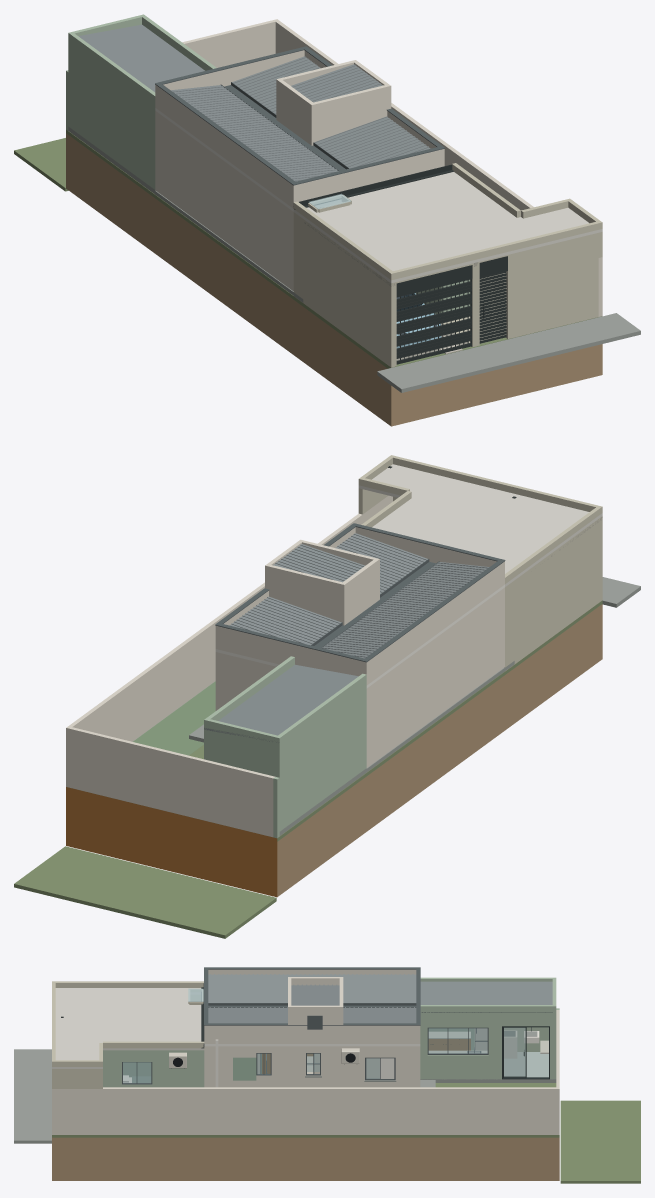
Rendered from casa-bp-porta-lavanderia-g08.glb.
3 views of the same model, one above another, from view 1: azimuth 30°, elevation 25°; view 2: azimuth 150°, elevation 25°; view 3: azimuth 270°, elevation 25° (orthographic). The views are drawn at different scales.
Visible parts, largest first — view 1: Solo em corte esquemático — perfil lateral não levantado, G03 — laje contínua até a entrada existente (×3), Parede cega / divisa do desenho, G03 — fechamento frontal após porta social, Garagem — fechamento lateral proposto; apoios independentes , Fundos — fechamento esquerdo proposto, Passeio público — contexto ilustrativo, Volume elevado caixa d’água (×2), Platibanda frente / fundo (×2), Pano 1 — social, Fundos — cobertura independente ilustrativa, G03 — platibanda do conjunto frontal (×3) (+18 smaller); view 2: Solo em corte esquemático — perfil lateral não levantado, Face indicativa de contenção — 2 m estimados; seção e fundaç, Muro fundos — 2,00 m sobre terreno, G03 — laje contínua até a entrada existente (×3), Referência do nível do vizinho — extensão apenas ilustrativa, Parede cega / divisa do desenho, Muro lateral direito do desenho — 2,00 m, Garagem — fechamento lateral proposto; apoios independentes , Fundos — fechamento esquerdo proposto, Fundos — cobertura independente ilustrativa, Platibanda frente / fundo (×2), Volume elevado caixa d’água (×2) (+18 smaller); view 3: Muro lateral direito do desenho — 2,00 m, Solo em corte esquemático — perfil lateral não levantado, G03 — laje contínua até a entrada existente (×3), Referência do nível do vizinho — extensão apenas ilustrativa, Lateral existente — só janela do quarto reorganizada em A (×5), Platibanda lateral (×2), Pano 1 — social, Passeio público — contexto ilustrativo, Fundos — fechamento direito da cozinha (×4), Fundos — cobertura independente ilustrativa, Suíte ampliada — lateral para o corredor (×3), G03 — platibanda do conjunto frontal (×4) (+22 smaller).
Boxes of the visible parts, box(x1,y1,x2,y2) form: Solo em corte esquemático — perfil lateral não levantado: box(66, 133, 602, 426); G03 — laje contínua até a entrada existente (×3): box(302, 172, 602, 283); Parede cega / divisa do desenho: box(155, 111, 293, 290); G03 — fechamento frontal após porta social: box(506, 233, 598, 338); Garagem — fechamento lateral proposto; apoios independentes : box(304, 220, 395, 367); Fundos — fechamento esquerdo proposto: box(68, 47, 155, 189); Passeio público — contexto ilustrativo: box(377, 313, 640, 392); Volume elevado caixa d’água (×2): box(276, 78, 387, 145); Platibanda frente / fundo (×2): box(163, 50, 440, 201); Pano 1 — social: box(171, 85, 337, 181); Fundos — cobertura independente ilustrativa: box(78, 24, 204, 92); G03 — platibanda do conjunto frontal (×3): box(293, 163, 602, 280); Solo em corte esquemático — perfil lateral não levantado: box(277, 604, 602, 896); Face indicativa de contenção — 2 m estimados; seção e fundaç: box(66, 787, 277, 897); Muro fundos — 2,00 m sobre terreno: box(70, 727, 275, 837); G03 — laje contínua até a entrada existente (×3): box(358, 464, 602, 580); Referência do nível do vizinho — extensão apenas ilustrativa: box(14, 846, 276, 938); Parede cega / divisa do desenho: box(366, 587, 504, 767); Muro lateral direito do desenho — 2,00 m: box(66, 495, 392, 787); Garagem — fechamento lateral proposto; apoios independentes : box(515, 516, 602, 663); Fundos — fechamento esquerdo proposto: box(275, 689, 366, 831); Fundos — cobertura independente ilustrativa: box(204, 664, 358, 742); Platibanda frente / fundo (×2): box(219, 527, 496, 676); Volume elevado caixa d’água (×2): box(269, 558, 379, 625); Muro lateral direito do desenho — 2,00 m: box(52, 1087, 559, 1134); Solo em corte esquemático — perfil lateral não levantado: box(52, 1137, 559, 1180); G03 — laje contínua até a entrada existente (×3): box(52, 988, 204, 1068); Referência do nível do vizinho — extensão apenas ilustrativa: box(560, 1100, 640, 1183); Lateral existente — só janela do quarto reorganizada em A (×5): box(204, 1046, 420, 1087); Platibanda lateral (×2): box(204, 969, 420, 1043); Pano 1 — social: box(208, 974, 416, 1002); Passeio público — contexto ilustrativo: box(14, 1049, 51, 1143); Fundos — fechamento direito da cozinha (×4): box(420, 1017, 496, 1079); Fundos — cobertura independente ilustrativa: box(420, 981, 552, 1004); Suíte ampliada — lateral para o corredor (×3): box(103, 1050, 204, 1087); G03 — platibanda do conjunto frontal (×4): box(52, 981, 204, 1066).
Bounding box in the file's own units: 8.5 × 6.68 × 24.7.
